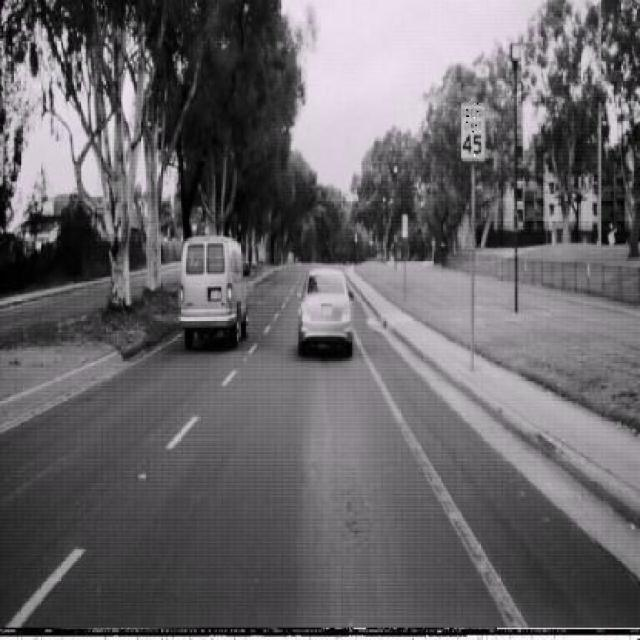speedLimit45: (462, 101, 486, 160)
